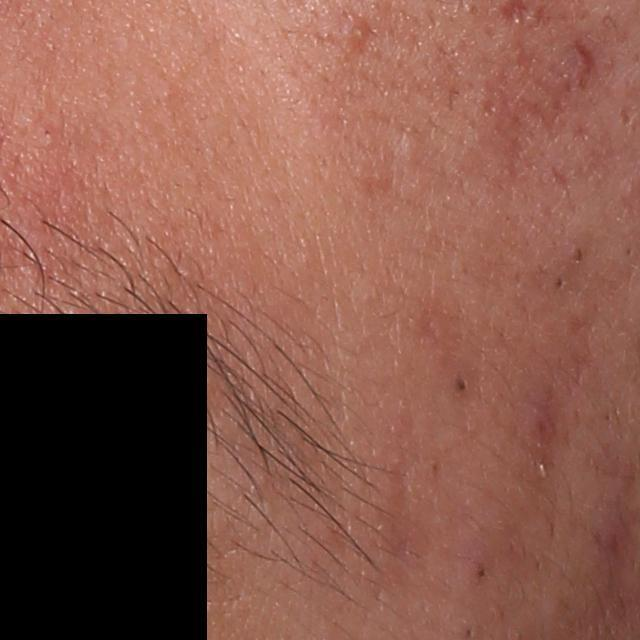atrophic_scar: (567, 34, 596, 79)
comedo: (452, 374, 472, 394), (552, 273, 567, 292), (472, 564, 487, 583), (572, 246, 586, 263)
